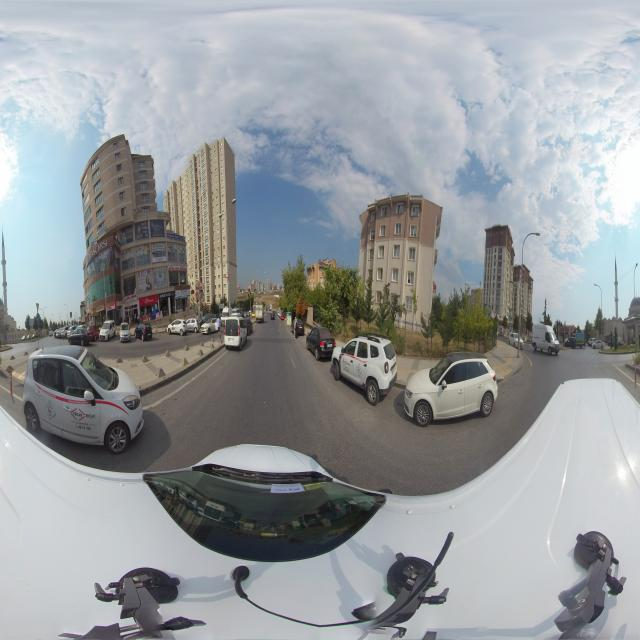SignStore: (139, 294, 158, 306), (167, 233, 185, 241), (158, 291, 175, 299), (177, 289, 190, 298), (124, 294, 137, 303), (137, 269, 151, 277), (168, 266, 187, 271), (107, 302, 115, 311), (96, 305, 104, 312), (93, 308, 96, 313)
